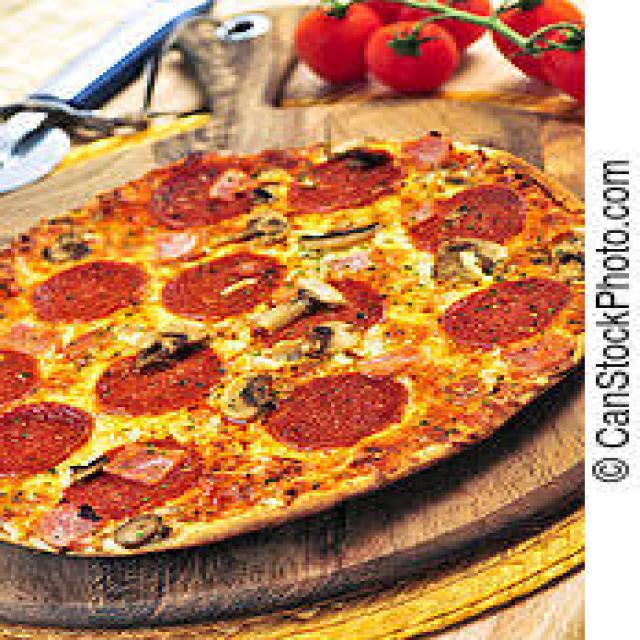피자: (0, 131, 585, 565)
